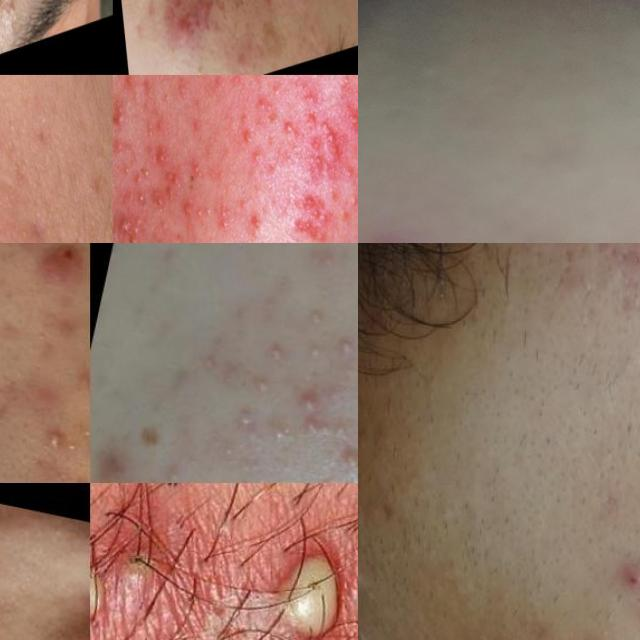acne_scars: (589, 243, 622, 266)
comedone: (303, 304, 330, 335), (77, 587, 90, 625), (5, 0, 18, 20)
folliculitis: (246, 526, 358, 640), (92, 530, 174, 602), (90, 542, 125, 640)
papule: (90, 437, 130, 483), (60, 350, 90, 408), (167, 5, 200, 48), (611, 555, 640, 594), (246, 89, 275, 125), (332, 188, 358, 225), (335, 96, 358, 136), (244, 208, 266, 234), (589, 628, 617, 640)
pustule: (281, 382, 340, 442), (28, 410, 80, 464), (230, 401, 270, 438), (117, 201, 151, 243), (284, 337, 322, 370), (330, 439, 358, 482), (331, 327, 358, 362), (190, 193, 217, 226), (239, 367, 271, 391), (264, 339, 286, 367), (113, 98, 131, 128), (291, 215, 315, 237), (233, 124, 253, 149), (186, 156, 203, 184), (278, 114, 296, 140), (154, 140, 170, 169), (116, 159, 133, 179), (139, 159, 154, 179)
sebo-crystan-conglo: (0, 243, 90, 310), (301, 133, 324, 192), (320, 114, 340, 163)
